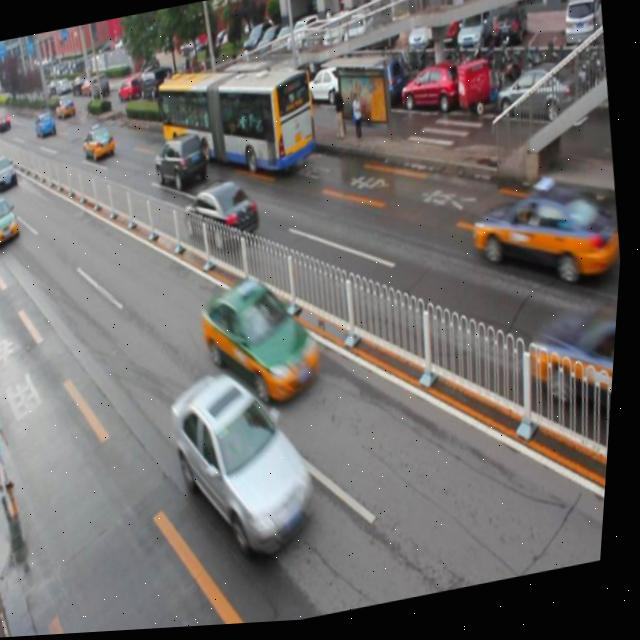car: (163, 360, 332, 575), (466, 174, 622, 312), (198, 271, 336, 424), (180, 176, 267, 259), (152, 132, 213, 198), (82, 121, 118, 164), (0, 194, 25, 249)
van: (151, 48, 326, 199)
